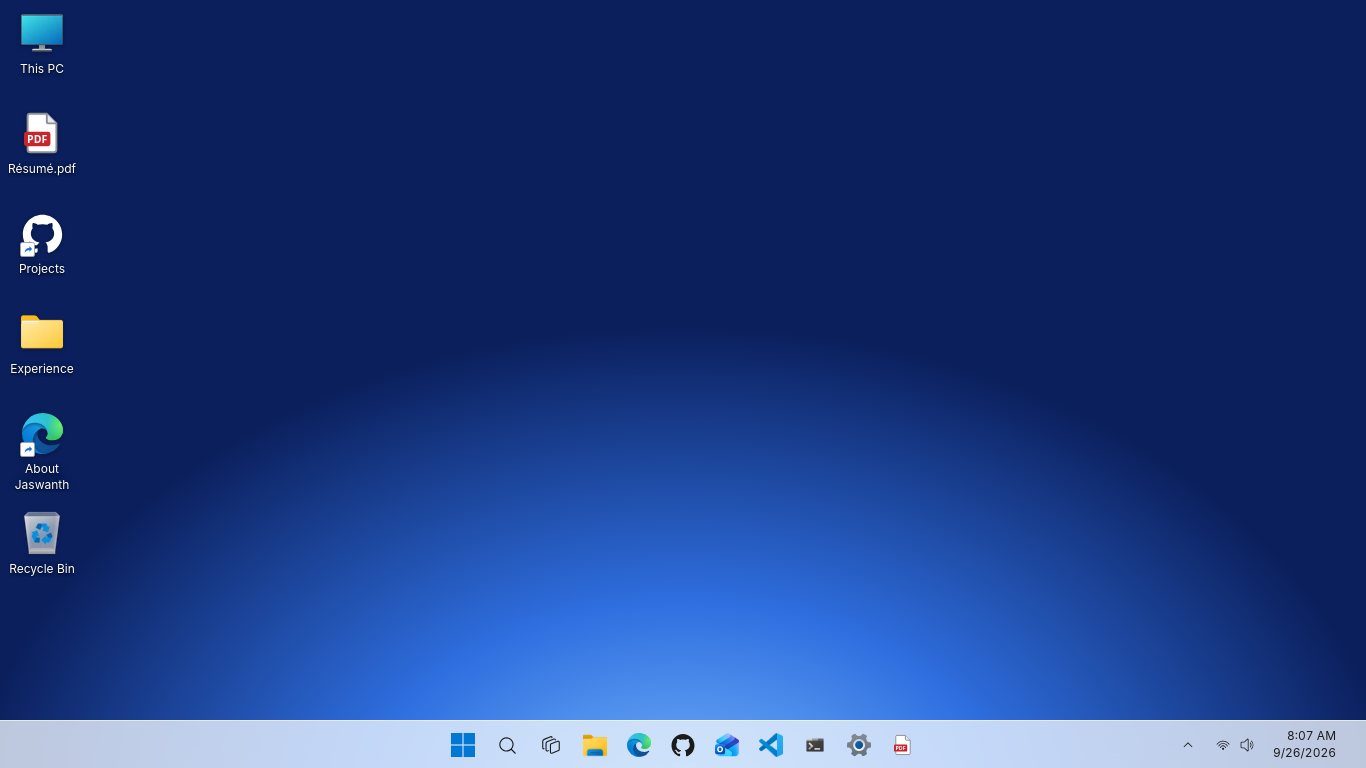
Test case: WIN-SEARCH-02 · WIN-START-03 keys typed while Start / Search loads all reach the Search box
The width and height of the screenshot is (1366, 768).
Click the button named "Start" at (463, 744), box top-left (443, 724), bottom-right (483, 764)
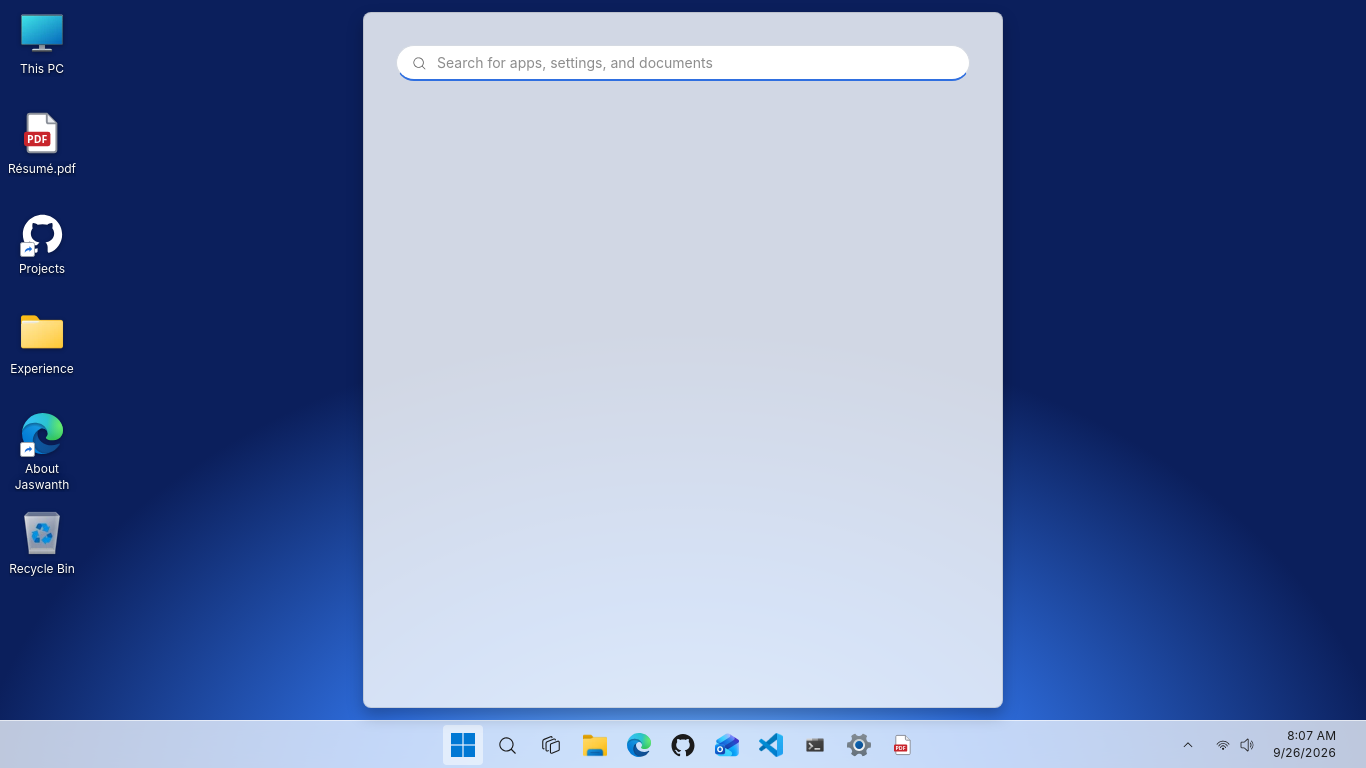
# Typed at once, into whatever holds focus: the placeholder field until the launcher arrives.
Type keys "whoami"
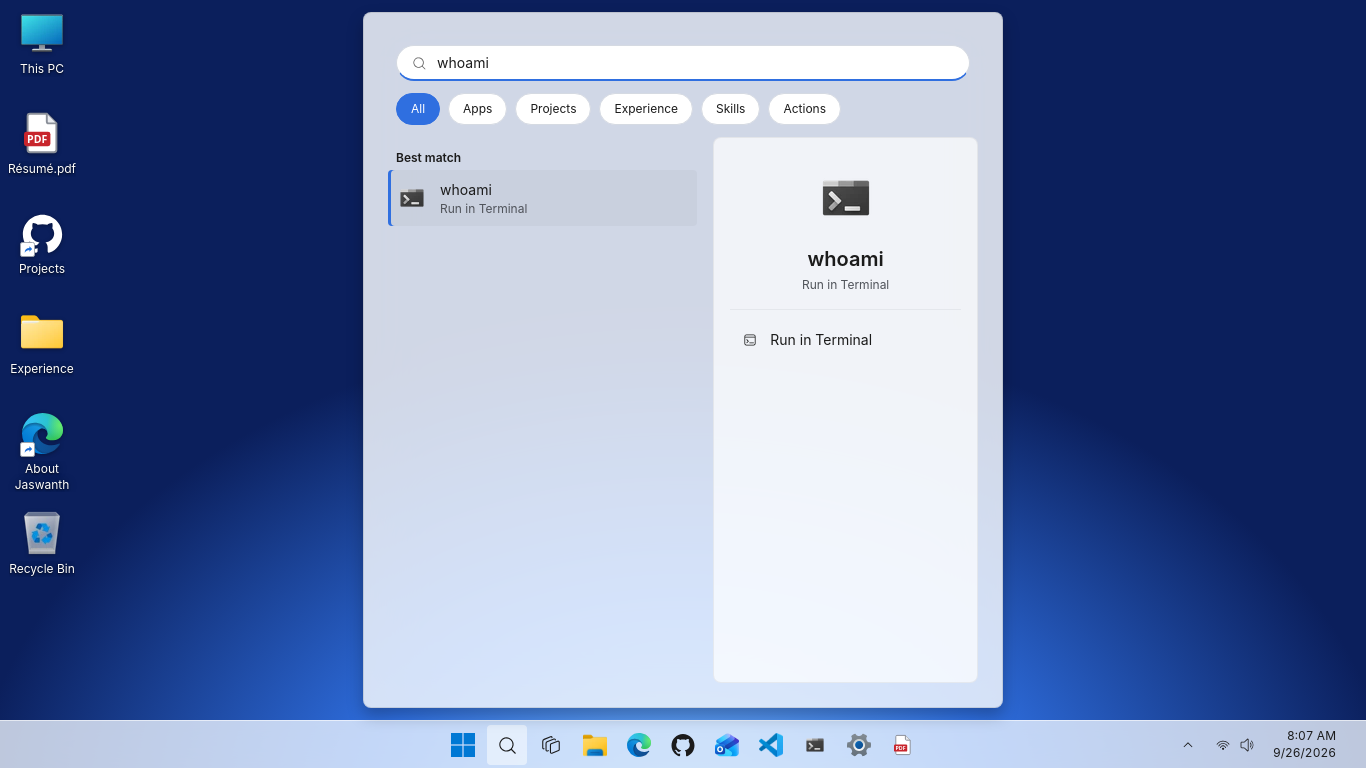
Check: the dropdown named "search" holds "whoami", box top-left (396, 45), bottom-right (970, 81)
